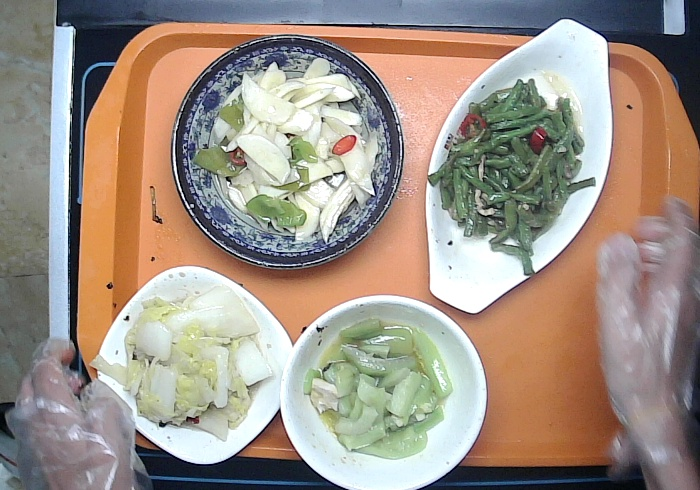ZNLD-Qing_Hua_Wan: (168, 33, 406, 271)
ZNLD-Si_Fang_Wan: (94, 262, 295, 465)
ZNLD-Tang_Wan: (278, 291, 490, 490)
ZNLD-Yu_Pan: (421, 16, 617, 315)
